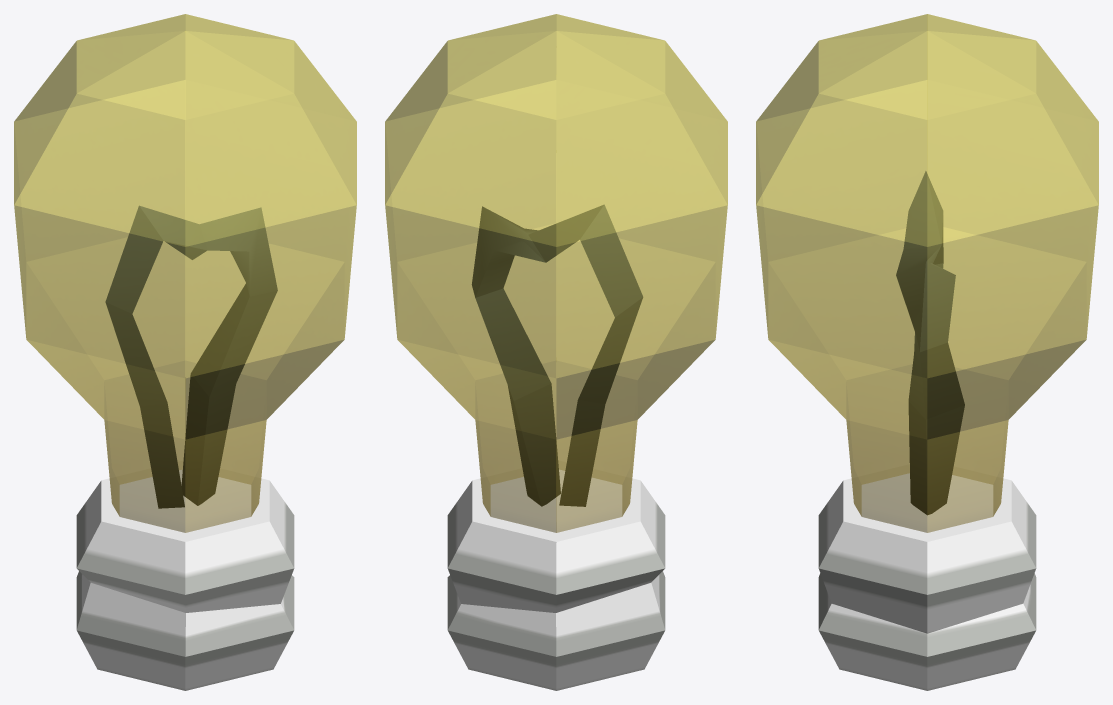
Rendered from Limb_End_Lightbulb.fbx.
3 views of the same model, side by side, from view 1: azimuth 30°, elevation 25°; view 2: azimuth 150°, elevation 25°; view 3: azimuth 270°, elevation 25° (orthographic).
Visible parts, largest first — view 1: Lightbulb, pCylinder9; view 2: Lightbulb, pCylinder9; view 3: Lightbulb, pCylinder9.
Part boxes in pixels (x1,y1,x2,y2): Lightbulb: [14, 14, 356, 690]; pCylinder9: [105, 205, 277, 508]; Lightbulb: [385, 14, 727, 690]; pCylinder9: [472, 204, 642, 506]; Lightbulb: [756, 14, 1098, 690]; pCylinder9: [896, 171, 964, 515].
Bounding box in the file's own units: 0.494 × 0.85 × 0.4278.
